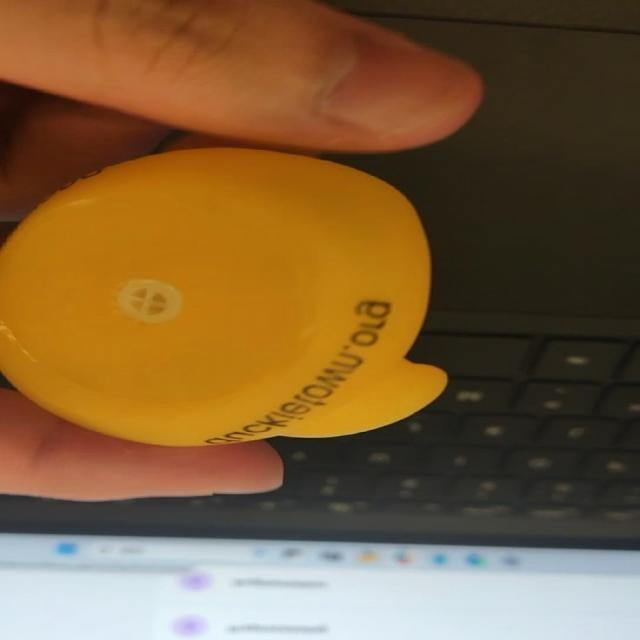rubber-duck: (0, 148, 445, 444)
